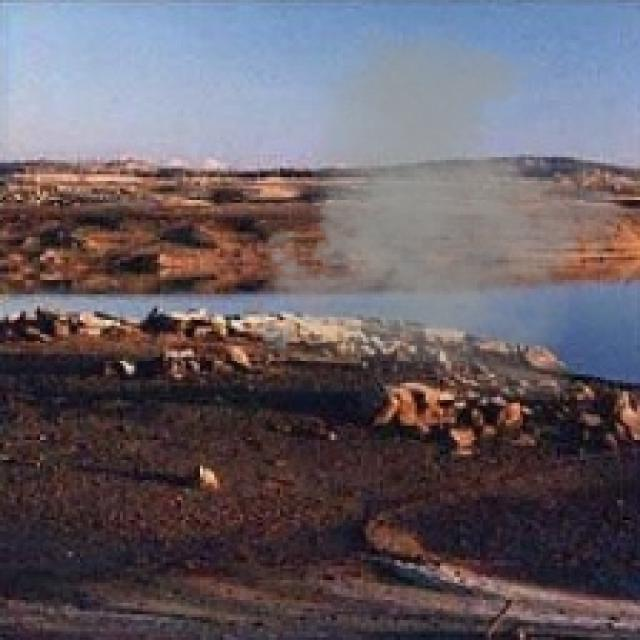smoke: (240, 23, 637, 406)
